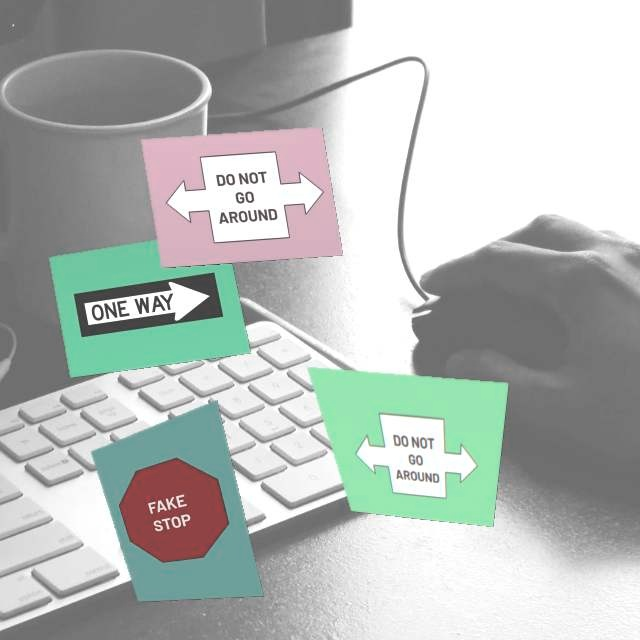DO_NOT_GO_AROUND: (159, 148, 331, 247), (331, 402, 490, 507)
FAKE_STOP: (106, 446, 239, 569)
ONE_WAY_ right: (71, 272, 225, 337)
